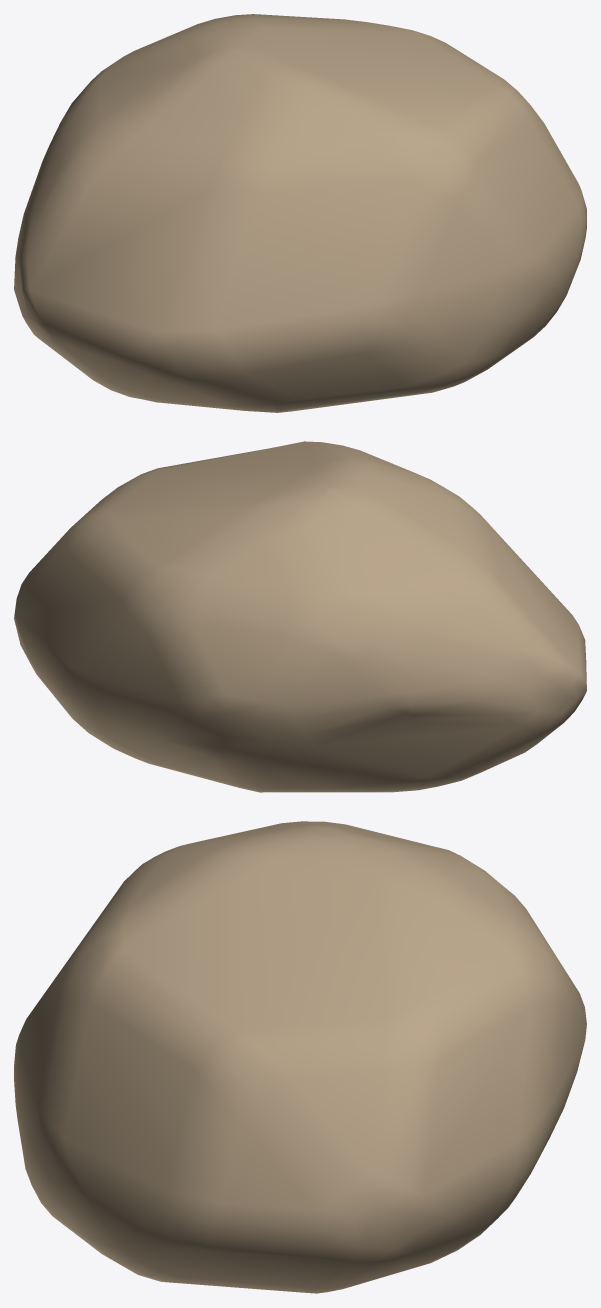
Rendered from Rock_01_Pebble_MaxPoligon.fbx.
3 views of the same model, one above another, from view 1: azimuth 30°, elevation 25°; view 2: azimuth 150°, elevation 25°; view 3: azimuth 270°, elevation 25° (orthographic). The views are drawn at different scales.
Visible parts, largest first — view 1: Rock_01_Pebble; view 2: Rock_01_Pebble; view 3: Rock_01_Pebble.
Part boxes in pixels (x1,y1,x2,y2): Rock_01_Pebble: (14, 14, 586, 412); Rock_01_Pebble: (14, 441, 586, 792); Rock_01_Pebble: (14, 821, 586, 1293).
Size of the model in its own units: 0.7369 by 0.3554 by 0.5791.
